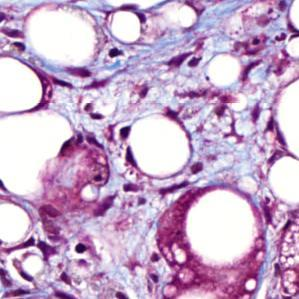steatosis: (123, 117, 192, 180), (204, 55, 246, 89)
